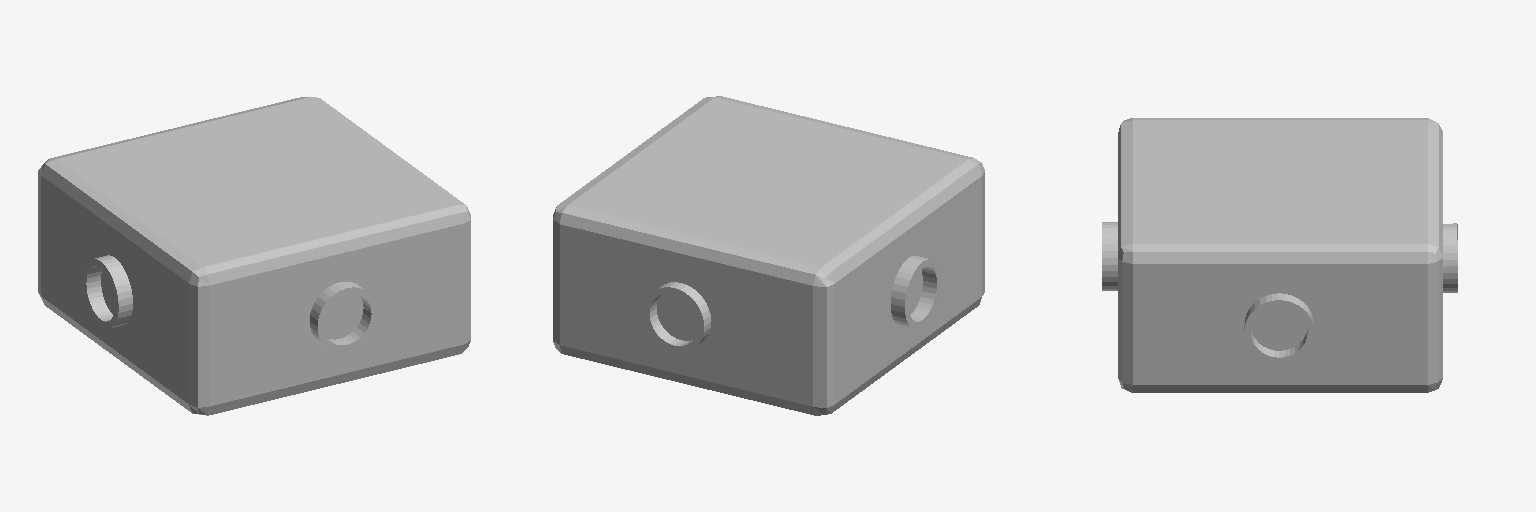
File: 4-plug 1.0.obj
3 renders of one model, left to right at view 1: azimuth 30°, elevation 25°; view 2: azimuth 150°, elevation 25°; view 3: azimuth 270°, elevation 25°, orthographic.
Visible parts, largest first — view 1: Cube; view 2: Cube; view 3: Cube.
Boxes of the visible parts, <box> form: Cube: <box>38,97,470,415</box>; Cube: <box>553,96,984,415</box>; Cube: <box>1102,118,1457,392</box>.
Bounding box in the file's own units: 4.41 × 2 × 4.37.